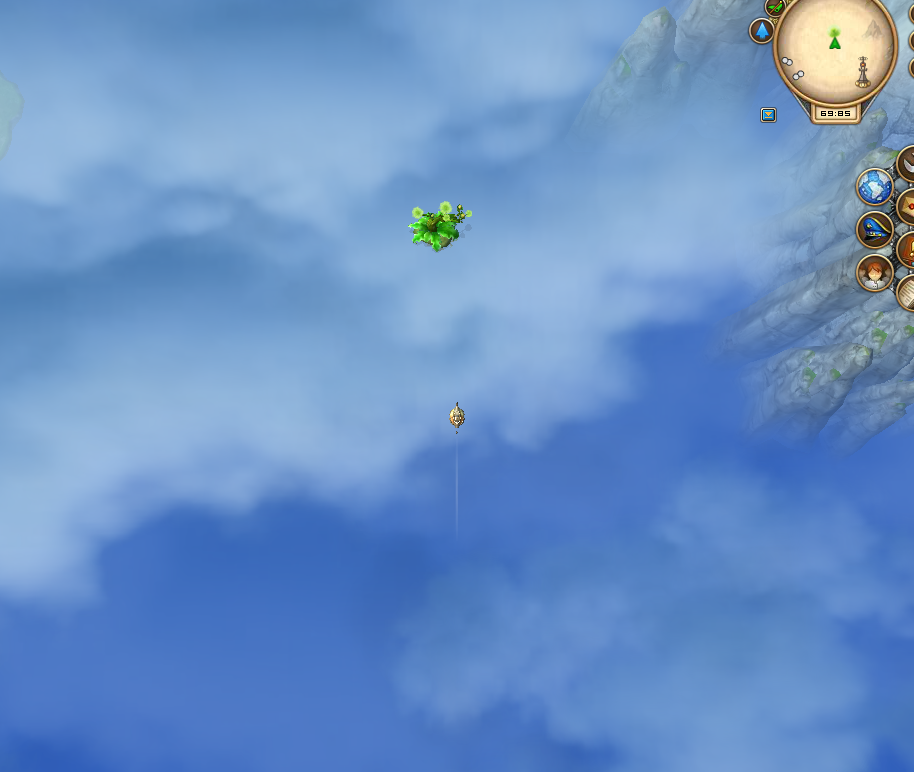dandelion-full: (401, 190, 475, 254)
